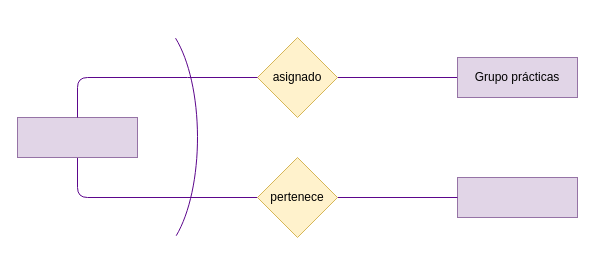
This 595x275 diagram has some shape labels left out. The centre of each missing label's shape, as x and y in pixels:
"Departamento" belongs at [517,197].
"Empleado" belongs at [77,137].
